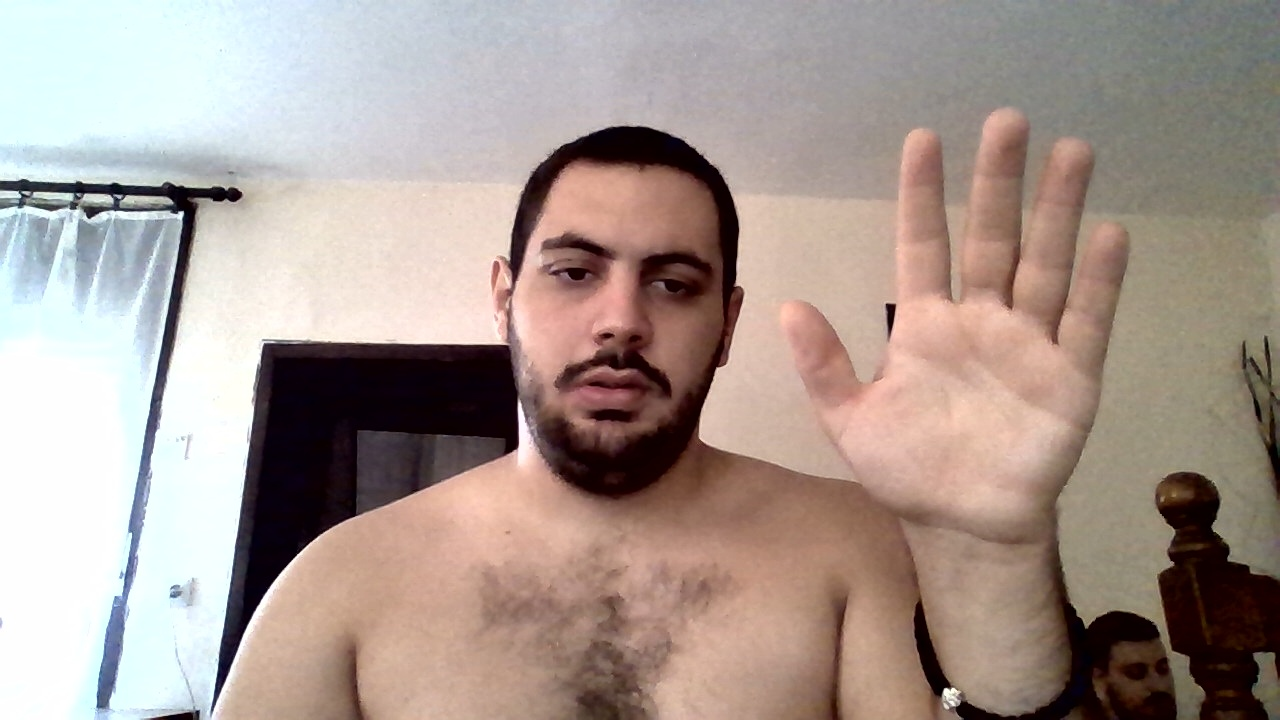palm: (780, 103, 1135, 514)
